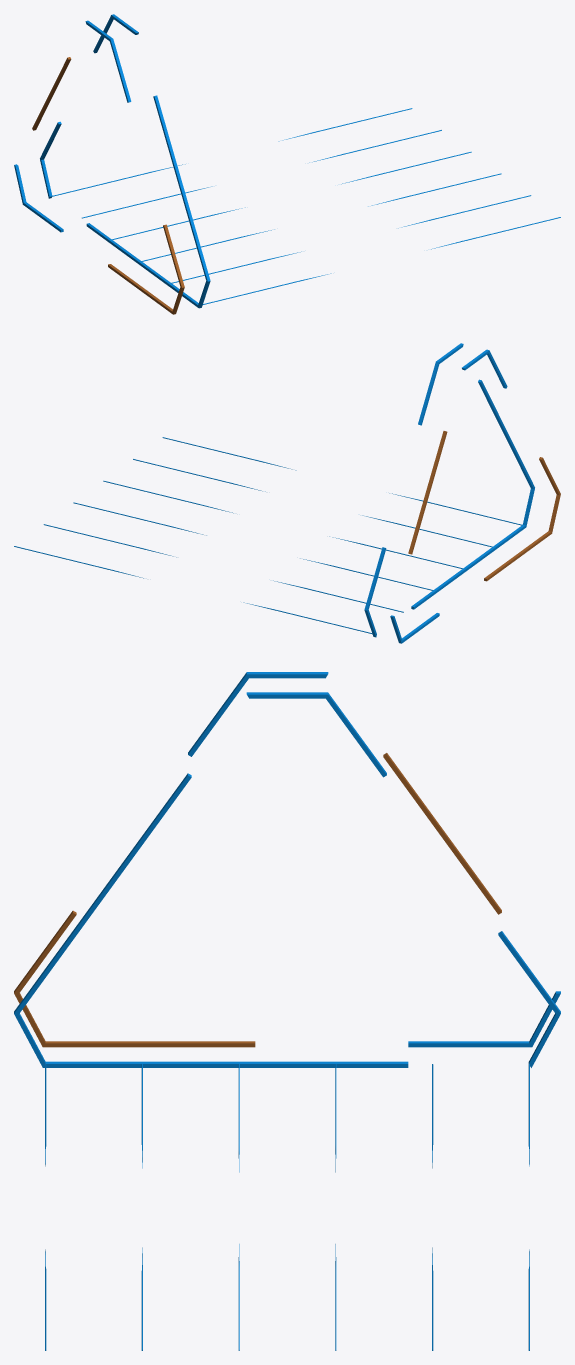
The model's file is SM_Level_Triangle_0.fbx.
3 views of the same model, one above another, from view 1: azimuth 30°, elevation 25°; view 2: azimuth 150°, elevation 25°; view 3: azimuth 270°, elevation 25° (orthographic). The views are drawn at different scales.
Parts seen in each view (by area): view 1: polySurface13, polySurface6; view 2: polySurface13, polySurface6; view 3: polySurface13, polySurface6.
Part boxes in pixels (x1=…): polySurface13: x1=40, y1=14, x2=210, y2=308; polySurface6: x1=14, y1=20, x2=184, y2=314; polySurface13: x1=364, y1=343, x2=534, y2=637; polySurface6: x1=390, y1=349, x2=560, y2=643; polySurface13: x1=14, y1=692, x2=560, y2=1067; polySurface6: x1=14, y1=672, x2=560, y2=1047.
Size of the model in its own units: 1509 by 852 by 1131.
